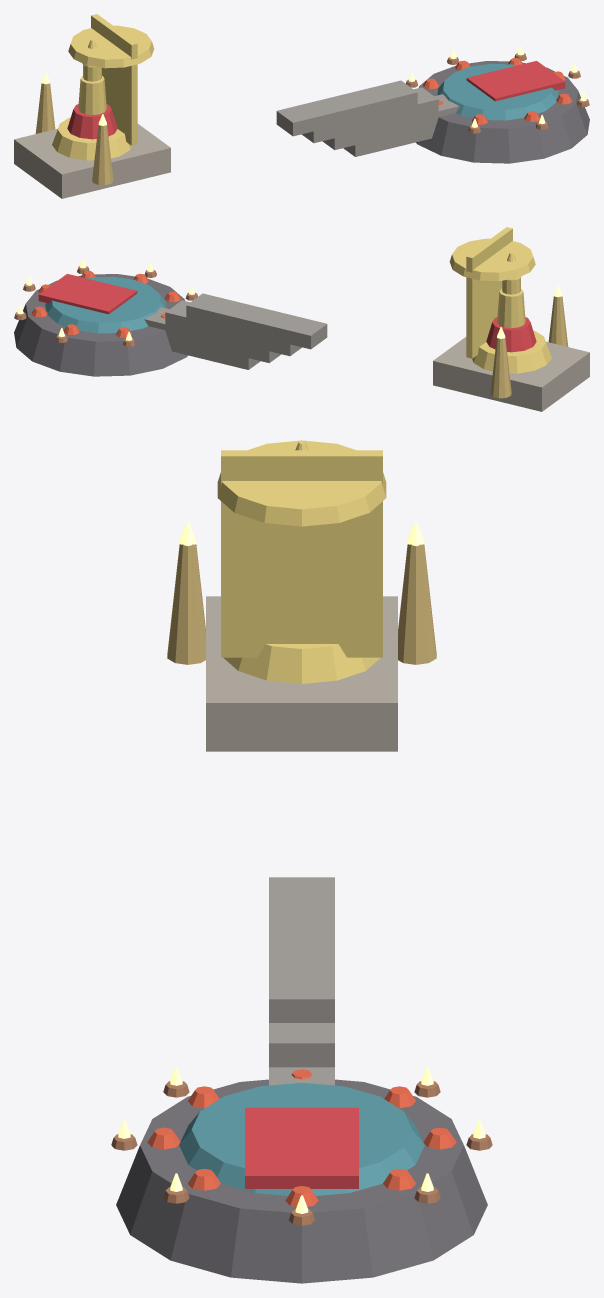
The model's file is sanctum_interior.glb.
3 views of the same model, one above another, from view 1: azimuth 30°, elevation 25°; view 2: azimuth 150°, elevation 25°; view 3: azimuth 270°, elevation 25° (orthographic). The views are drawn at different scales.
Parts seen in each view (by area): view 1: sanctum_interior; view 2: sanctum_interior; view 3: sanctum_interior.
Part boxes in pixels (<box>): sanctum_interior: <box>14,14,589,198</box>; sanctum_interior: <box>14,227,589,411</box>; sanctum_interior: <box>111,440,492,1283</box>.
Bounding box in the file's own units: 10.44 × 3.47 × 3.18.
